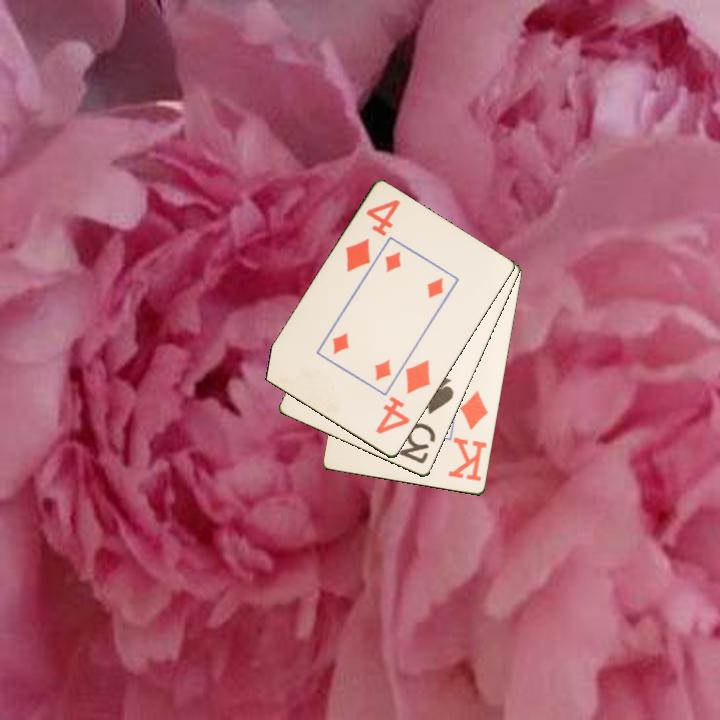3s: (396, 372, 457, 467)
4d: (372, 357, 434, 437), (342, 196, 404, 276)
Kd: (445, 388, 491, 485)
